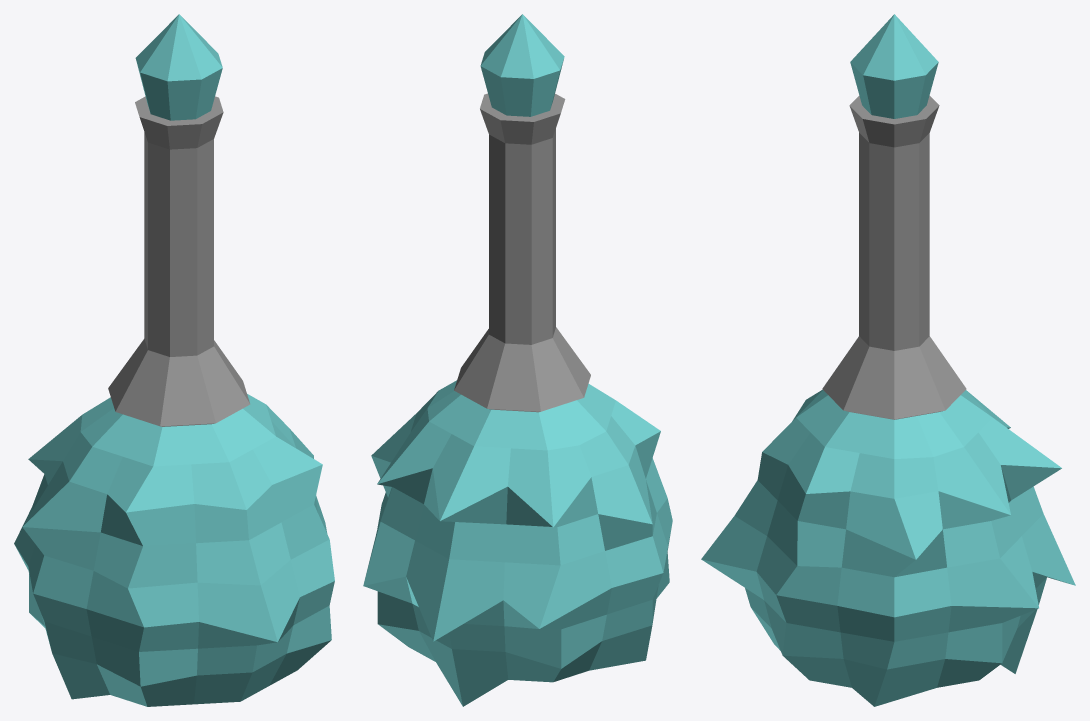
File: Potion3.glb
The picture shows the model from 3 angles, left to right: view 1: azimuth 30°, elevation 25°; view 2: azimuth 150°, elevation 25°; view 3: azimuth 270°, elevation 25°; orthographic projection. The views are drawn at different scales.
Parts seen in each view (by area): view 1: Potion3; view 2: Potion3; view 3: Potion3.
Part boxes in pixels (box(x1,y1,x2,y2)): Potion3: box(14, 14, 334, 706); Potion3: box(363, 14, 672, 706); Potion3: box(701, 14, 1075, 706).
Size of the model in its own units: 0.4914 by 1.08 by 0.5569.
